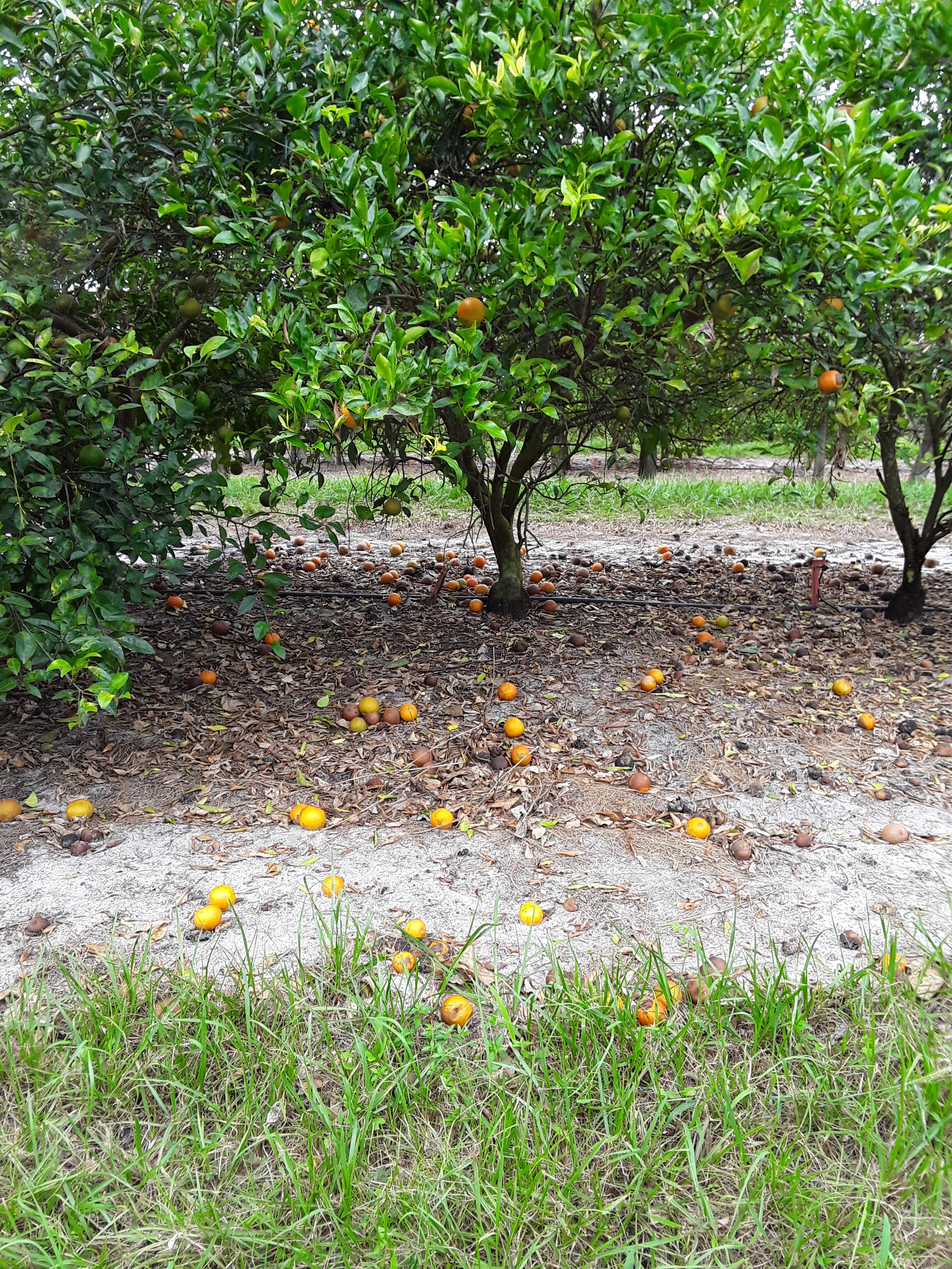fruit_on_ground: (462, 100, 500, 138), (747, 91, 787, 124), (73, 440, 105, 480), (453, 288, 484, 326), (189, 207, 227, 237), (202, 98, 238, 129), (3, 336, 41, 365), (177, 296, 208, 331), (813, 137, 849, 166), (181, 101, 219, 127), (238, 75, 273, 103), (833, 101, 868, 128), (100, 332, 131, 362), (52, 292, 79, 326), (820, 294, 844, 330), (714, 297, 740, 330), (377, 98, 401, 133), (164, 121, 194, 147), (546, 381, 575, 407), (187, 271, 214, 297), (263, 214, 296, 235), (337, 404, 361, 432), (816, 370, 838, 399), (20, 404, 45, 428), (504, 158, 528, 183), (607, 117, 629, 140), (384, 495, 404, 519), (466, 152, 490, 172), (248, 388, 268, 411), (257, 489, 280, 509), (107, 282, 128, 302), (215, 426, 237, 444), (360, 127, 380, 146), (613, 405, 632, 421), (657, 457, 675, 472), (611, 435, 628, 449), (229, 462, 246, 476)
fruit_on_tree: (437, 986, 475, 1034), (644, 977, 689, 1014), (686, 966, 720, 1011), (189, 900, 224, 940), (515, 894, 548, 930), (66, 793, 98, 829), (208, 883, 240, 918), (702, 954, 735, 986), (297, 804, 330, 835), (634, 998, 665, 1030), (629, 1004, 658, 1038), (884, 949, 912, 984), (685, 815, 715, 846), (323, 876, 352, 908), (789, 824, 818, 855), (732, 832, 760, 864), (399, 921, 428, 951), (882, 817, 910, 848), (546, 968, 578, 995), (25, 914, 60, 938), (431, 802, 458, 830), (288, 801, 317, 827), (80, 825, 112, 847), (387, 950, 412, 978), (877, 951, 908, 973), (627, 769, 651, 794), (2, 801, 24, 827), (899, 714, 922, 738), (831, 675, 853, 700), (427, 954, 448, 980), (399, 698, 421, 722), (503, 714, 524, 739), (513, 745, 534, 769), (875, 782, 897, 804), (839, 928, 861, 950), (429, 933, 450, 956), (68, 843, 96, 860), (932, 736, 952, 759), (614, 754, 639, 772), (412, 746, 432, 768), (346, 717, 369, 736), (210, 620, 234, 638), (197, 665, 217, 686), (495, 684, 515, 705), (362, 713, 388, 729), (380, 707, 403, 725), (648, 669, 670, 687), (640, 673, 660, 692), (472, 746, 492, 765), (58, 835, 83, 850), (421, 761, 443, 778), (809, 766, 826, 788), (689, 611, 707, 631), (359, 697, 380, 714), (491, 756, 513, 772), (567, 631, 586, 649), (343, 701, 361, 720), (264, 631, 284, 648), (859, 710, 876, 730), (539, 579, 561, 594), (166, 592, 183, 611), (785, 626, 802, 645), (254, 566, 275, 581), (422, 675, 442, 689), (654, 541, 670, 558), (713, 637, 729, 654), (746, 661, 764, 676), (152, 580, 172, 593), (697, 631, 713, 647), (896, 732, 912, 748), (387, 591, 402, 608), (466, 598, 484, 612), (527, 569, 546, 582), (723, 544, 739, 559), (475, 553, 489, 570), (378, 573, 396, 586), (453, 577, 471, 590), (541, 600, 560, 612), (925, 557, 941, 571), (395, 579, 411, 593), (862, 608, 879, 621), (249, 578, 267, 590), (858, 582, 873, 596), (895, 755, 910, 769), (481, 575, 497, 588), (465, 576, 481, 589), (922, 624, 938, 637), (730, 562, 747, 574), (767, 573, 787, 583), (871, 562, 885, 576), (880, 588, 895, 601), (445, 579, 461, 591), (476, 583, 492, 595), (488, 744, 504, 756), (511, 643, 528, 654), (341, 676, 358, 687), (576, 568, 591, 580), (918, 659, 936, 669), (293, 535, 309, 546), (525, 584, 541, 595), (336, 544, 350, 556), (462, 573, 476, 585), (796, 645, 808, 659), (229, 574, 245, 584), (662, 550, 674, 563), (539, 566, 552, 578), (303, 561, 317, 572), (519, 542, 529, 557), (432, 563, 447, 573), (401, 567, 417, 576), (592, 563, 605, 574), (294, 546, 308, 556), (677, 563, 691, 573), (828, 578, 845, 586), (772, 587, 789, 595), (276, 549, 291, 558), (363, 562, 378, 571), (386, 570, 401, 579), (595, 576, 610, 585), (390, 544, 402, 555), (815, 547, 826, 559), (582, 557, 593, 569), (717, 615, 728, 627), (319, 548, 332, 558), (199, 542, 215, 550), (423, 578, 437, 587), (436, 551, 447, 562), (362, 539, 374, 549), (354, 542, 369, 550), (795, 551, 810, 559), (311, 556, 323, 566), (765, 562, 777, 572), (394, 540, 408, 548), (251, 532, 262, 542), (265, 549, 276, 559), (570, 556, 581, 566), (546, 564, 557, 574), (450, 556, 462, 565), (553, 559, 562, 571), (273, 565, 286, 573), (445, 549, 455, 559), (541, 561, 553, 569), (407, 561, 420, 568), (518, 546, 525, 558), (792, 561, 804, 568), (686, 553, 695, 562), (693, 542, 701, 551), (712, 545, 721, 553)
